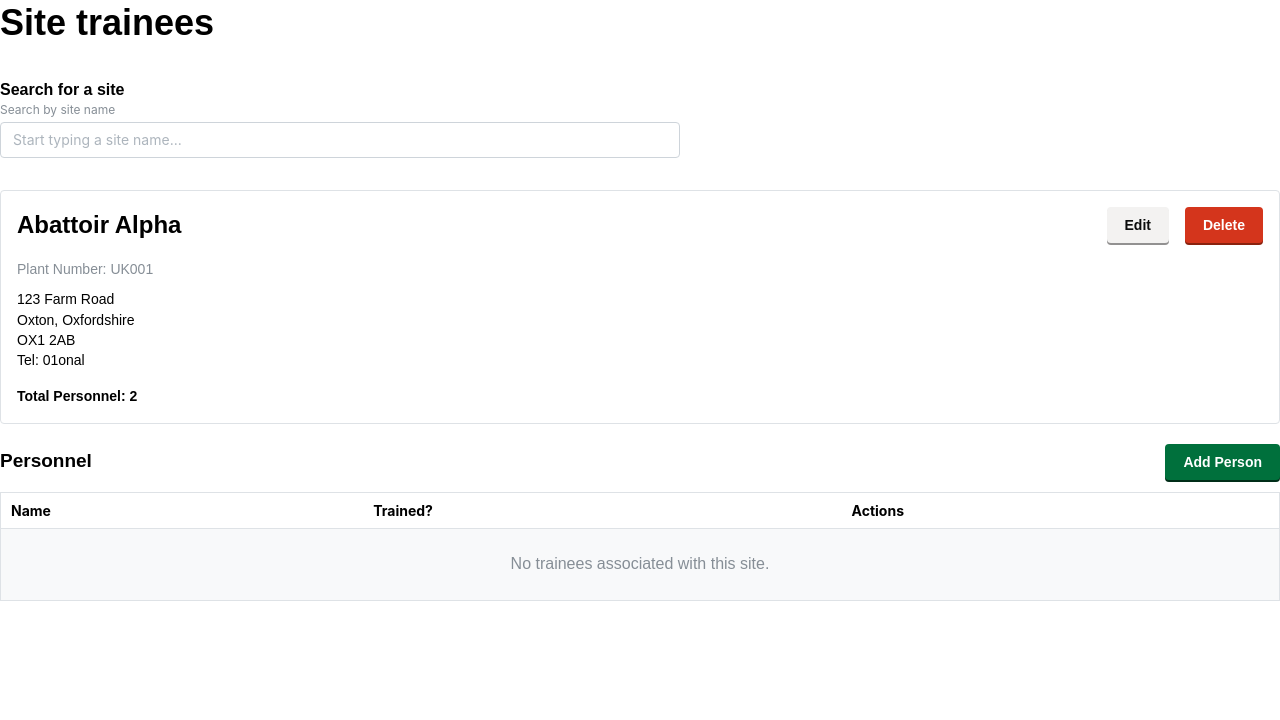
Test case: SiteTraineesPage › successfully deletes a site and resets selection (US-004 empty site)
Click the button with test id "delete-site-button": (1224, 225) x1=1185 y1=207 x2=1263 y2=243
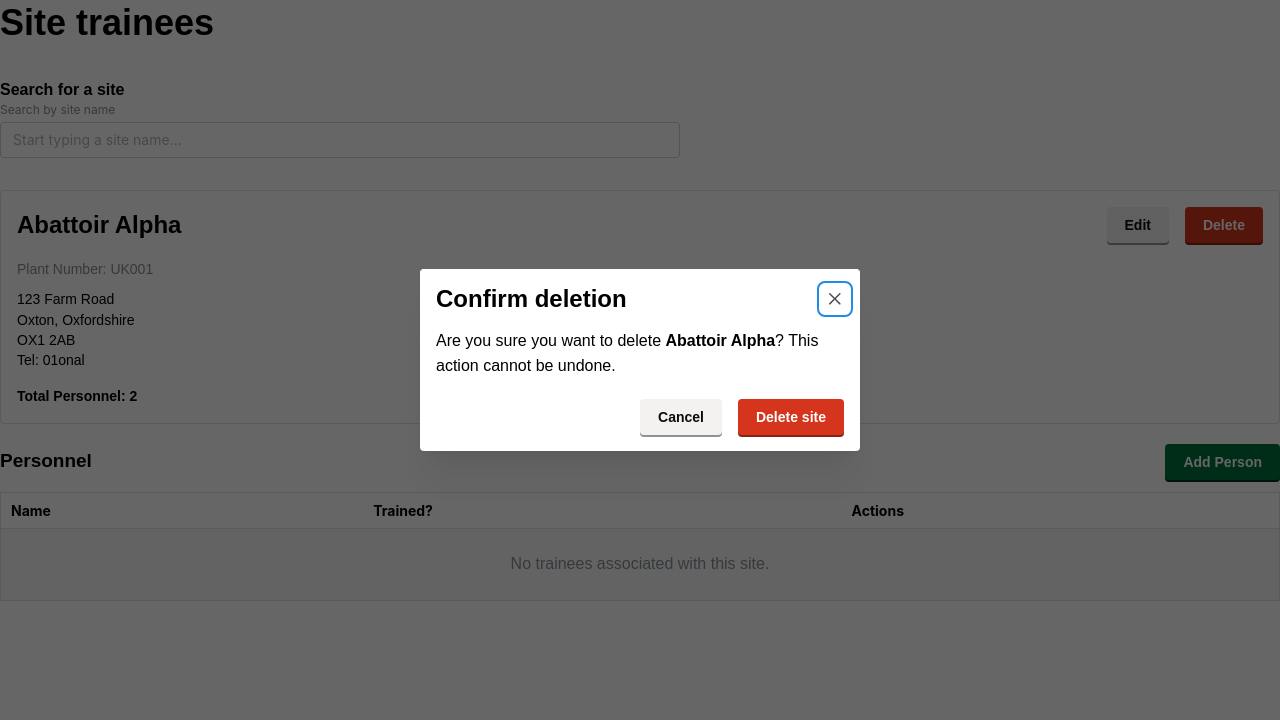
Expected: the button with test id "confirm-delete-button" is shown
Click the button with test id "confirm-delete-button": (791, 417) x1=738 y1=399 x2=844 y2=435
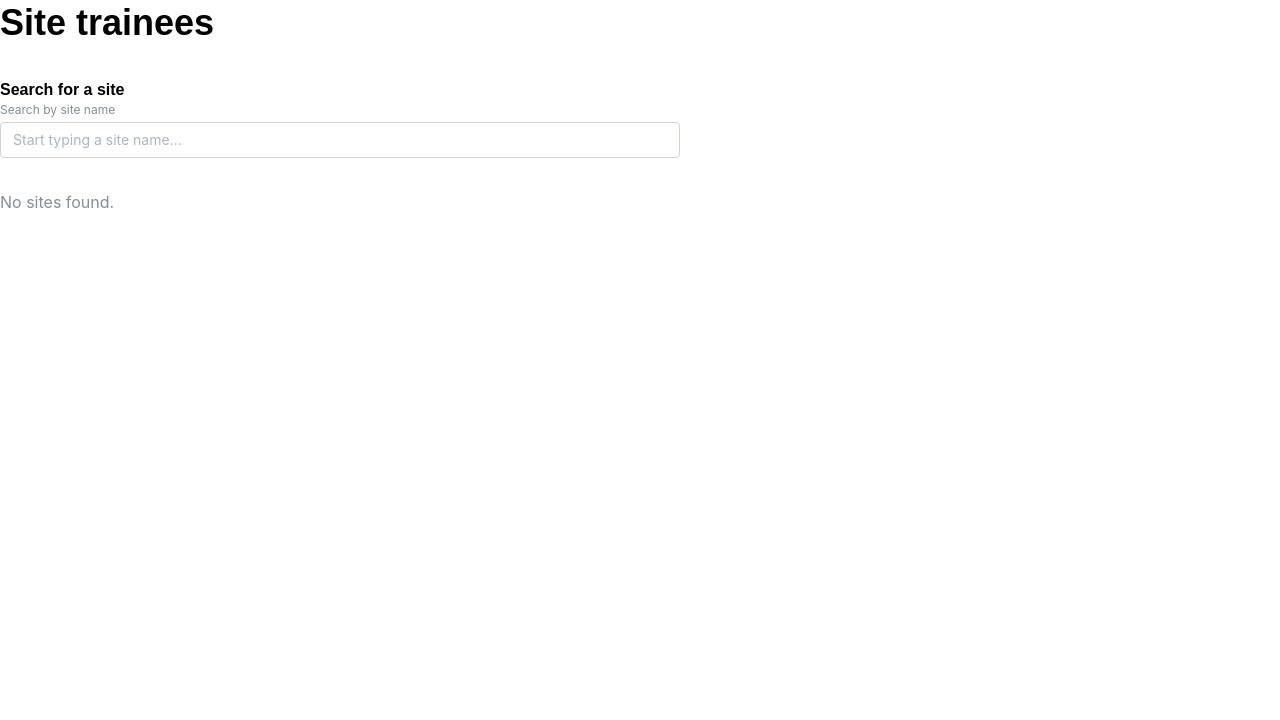
Expected: the element with test id "site-details-card" is gone
